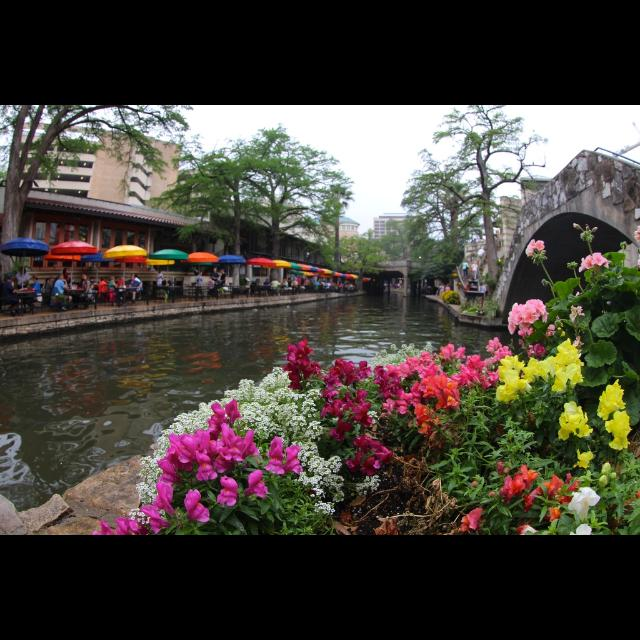Flower: (94, 340, 496, 534), (495, 338, 583, 398), (506, 298, 548, 336), (594, 374, 626, 422), (603, 411, 633, 451), (568, 486, 600, 522), (515, 462, 541, 492), (580, 250, 610, 270), (492, 474, 514, 500), (463, 508, 483, 534), (542, 475, 564, 497), (525, 236, 545, 254), (518, 492, 536, 508), (572, 303, 584, 323), (568, 524, 588, 534), (518, 524, 536, 534), (572, 331, 580, 349), (633, 223, 639, 241)
